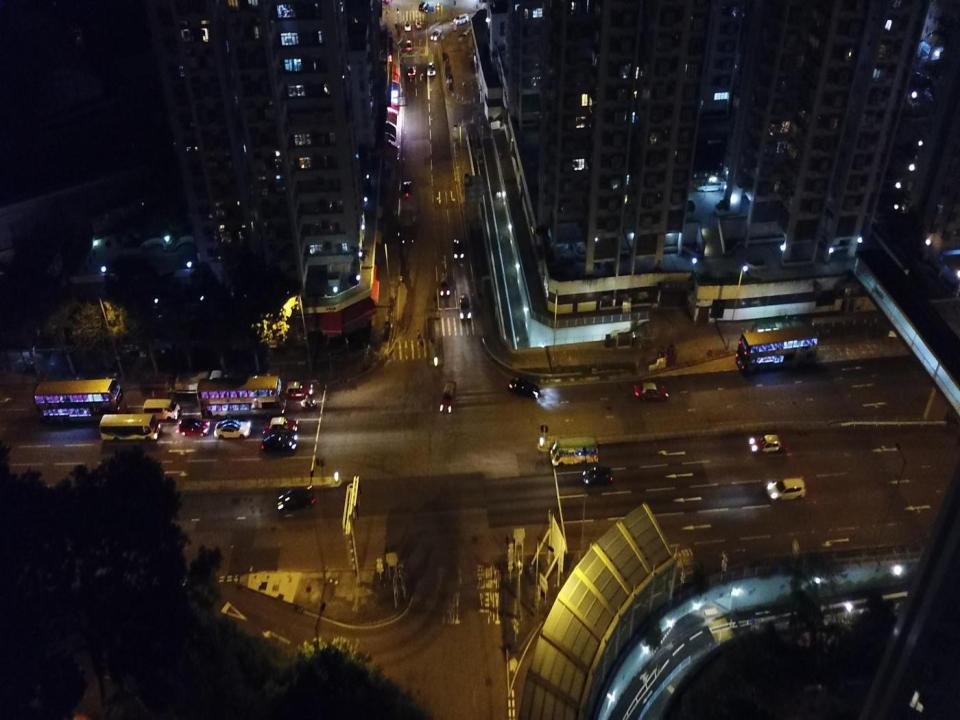bus: (31, 378, 128, 426), (735, 322, 820, 373), (196, 374, 288, 418), (99, 413, 160, 443), (550, 436, 598, 468)
car: (277, 484, 315, 516), (766, 476, 806, 502), (260, 431, 297, 455), (633, 380, 670, 403), (749, 433, 789, 454), (213, 419, 252, 440), (507, 376, 541, 400), (263, 416, 299, 437), (281, 379, 314, 400), (582, 464, 614, 485), (439, 379, 458, 414), (178, 416, 210, 436), (459, 292, 472, 321), (438, 273, 451, 297), (452, 238, 465, 260), (453, 12, 469, 25), (402, 179, 412, 199), (430, 27, 442, 42), (427, 60, 436, 77), (406, 64, 416, 78), (404, 38, 414, 52), (418, 0, 429, 11), (415, 16, 423, 29), (403, 20, 411, 32)
truck: (164, 369, 223, 399)
van: (143, 398, 180, 423), (398, 208, 415, 245)
